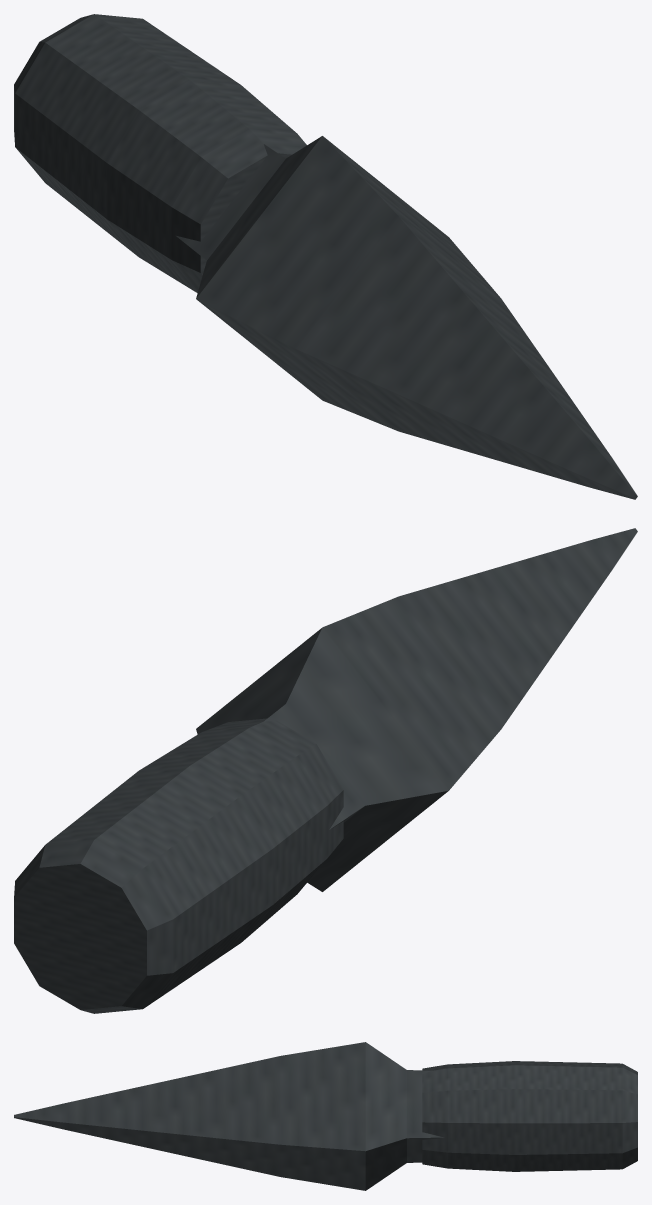
The model's file is AuxiliaBoltHead.fbx.
3 views of the same model, one above another, from view 1: azimuth 30°, elevation 25°; view 2: azimuth 150°, elevation 25°; view 3: azimuth 270°, elevation 25° (orthographic). The views are drawn at different scales.
Visible parts, largest first — view 1: AuxiliaBoltHead_GameExport; view 2: AuxiliaBoltHead_GameExport; view 3: AuxiliaBoltHead_GameExport.
Part boxes in pixels (left/top/right/bottom): AuxiliaBoltHead_GameExport: left=14, top=14, right=637, bottom=499; AuxiliaBoltHead_GameExport: left=14, top=528, right=637, bottom=1013; AuxiliaBoltHead_GameExport: left=14, top=1042, right=637, bottom=1190.
Size of the model in its own units: 0.96 by 3.64 by 0.96.
